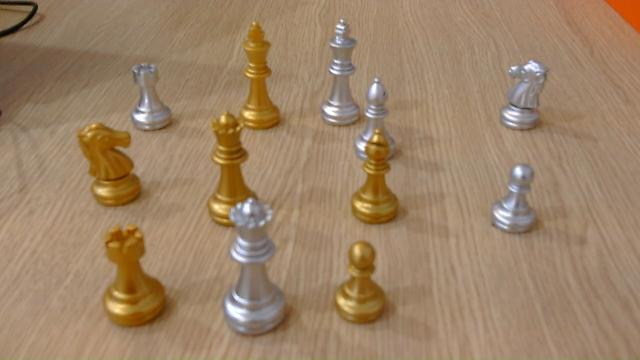black_bishop: (350, 128, 400, 224)
black_king: (239, 21, 281, 130)
black_knight: (76, 123, 143, 207)
black_pawn: (334, 241, 389, 323)
black_queen: (205, 112, 249, 226)
black_rook: (99, 226, 170, 327)
white_bishop: (358, 78, 389, 158)
white_king: (322, 20, 358, 124)
white_knight: (498, 60, 550, 132)
white_pawn: (491, 164, 539, 233)
white_queen: (223, 199, 288, 335)
white_rook: (129, 63, 173, 131)
